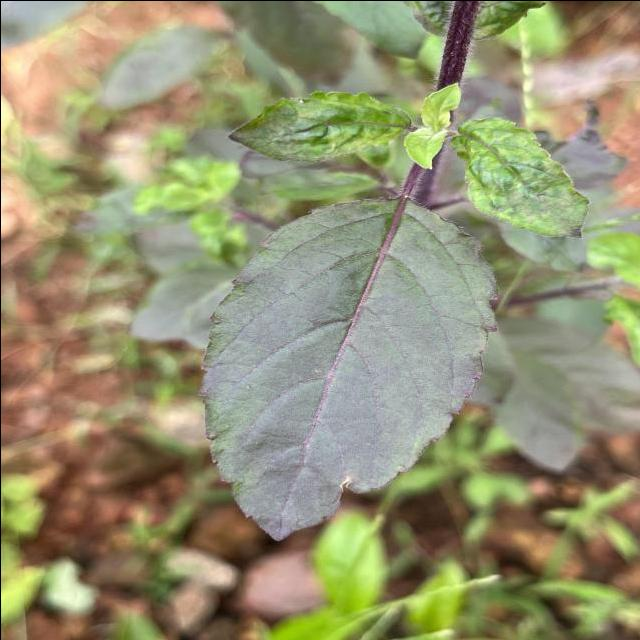Ocimum tenuiflorum: (192, 190, 505, 546)
